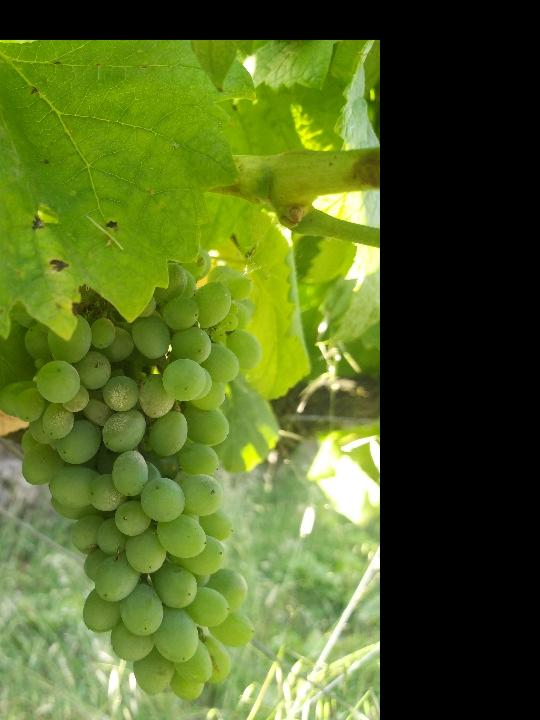grape: (0, 250, 265, 702)
